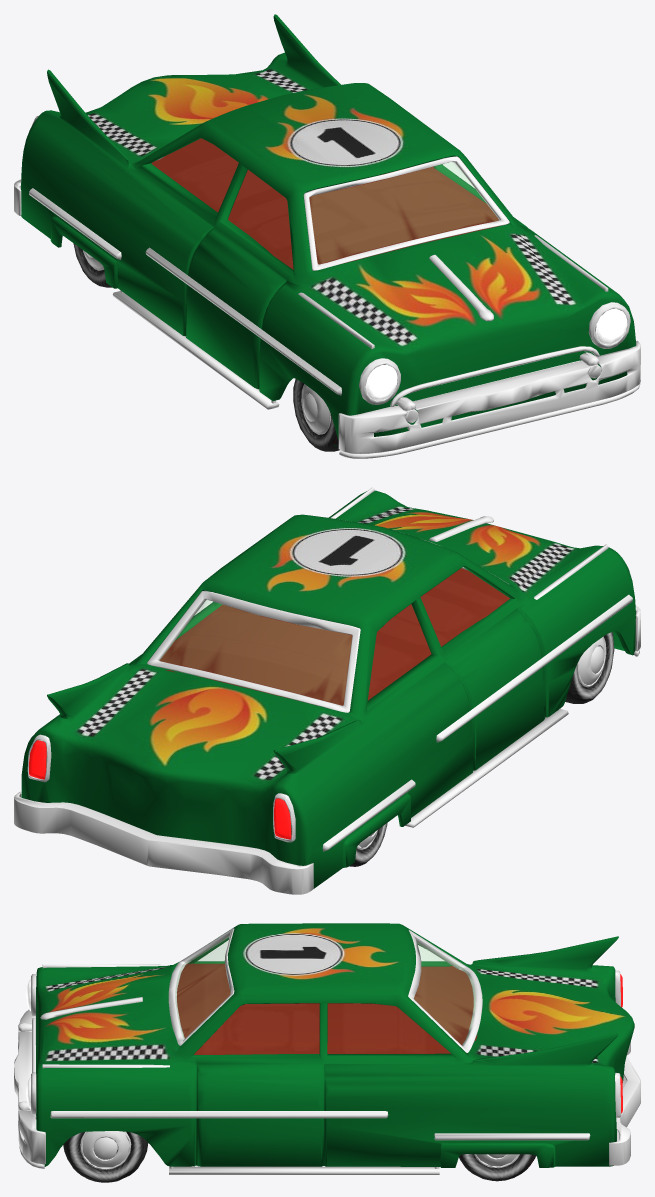
Rendered from khronos-toy-car.glb.
The picture shows the model from 3 angles, top to bottom: view 1: azimuth 30°, elevation 25°; view 2: azimuth 150°, elevation 25°; view 3: azimuth 270°, elevation 25°; orthographic projection. The views are drawn at different scales.
Parts seen in each view (by area): view 1: ToyCar, Glass; view 2: ToyCar, Glass; view 3: ToyCar, Glass.
Boxes of the visible parts, left/top/right/bottom form: ToyCar: left=14, top=14, right=640, bottom=458; Glass: left=309, top=162, right=499, bottom=263; ToyCar: left=14, top=487, right=640, bottom=894; Glass: left=159, top=600, right=351, bottom=705; ToyCar: left=14, top=923, right=640, bottom=1182; Glass: left=175, top=935, right=475, bottom=1045.
Size of the model in its own units: 0.0187 by 0.0116 by 0.0384.
Materials: 2 (1 with a texture image).
